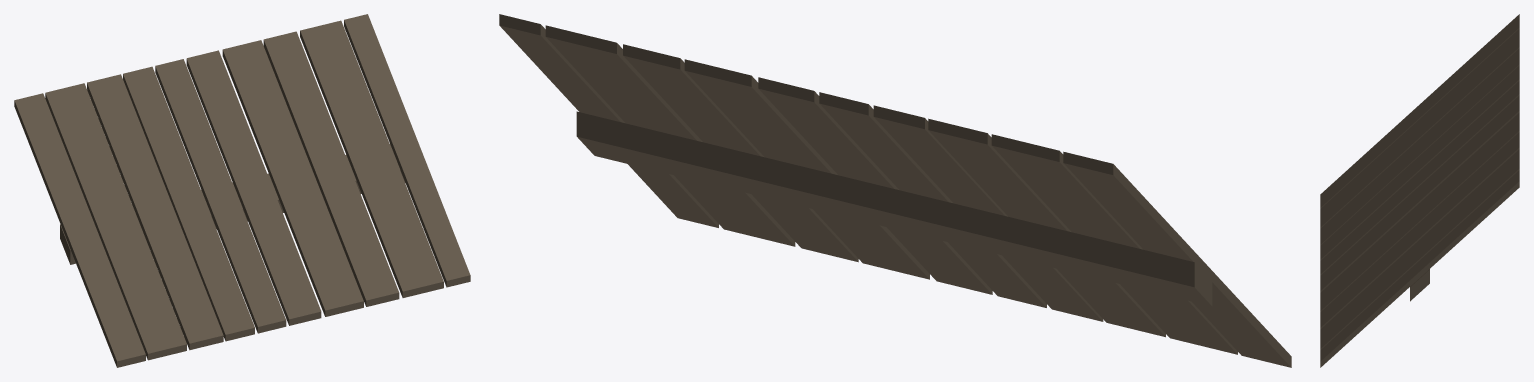
File: dach_bretter_2x1.glb
The picture shows the model from 3 angles, left to right: view 1: azimuth 30°, elevation 25°; view 2: azimuth 150°, elevation 25°; view 3: azimuth 270°, elevation 25°; orthographic projection. The views are drawn at different scales.
Parts seen in each view (by area): view 1: dach_bretter_2x1; view 2: dach_bretter_2x1; view 3: dach_bretter_2x1.
Boxes of the visible parts, left/top/right/bottom form: dach_bretter_2x1: left=14, top=14, right=470, bottom=367; dach_bretter_2x1: left=499, top=14, right=1291, bottom=367; dach_bretter_2x1: left=1320, top=14, right=1519, bottom=367.
Size of the model in its own units: 2 by 1.04 by 1.
